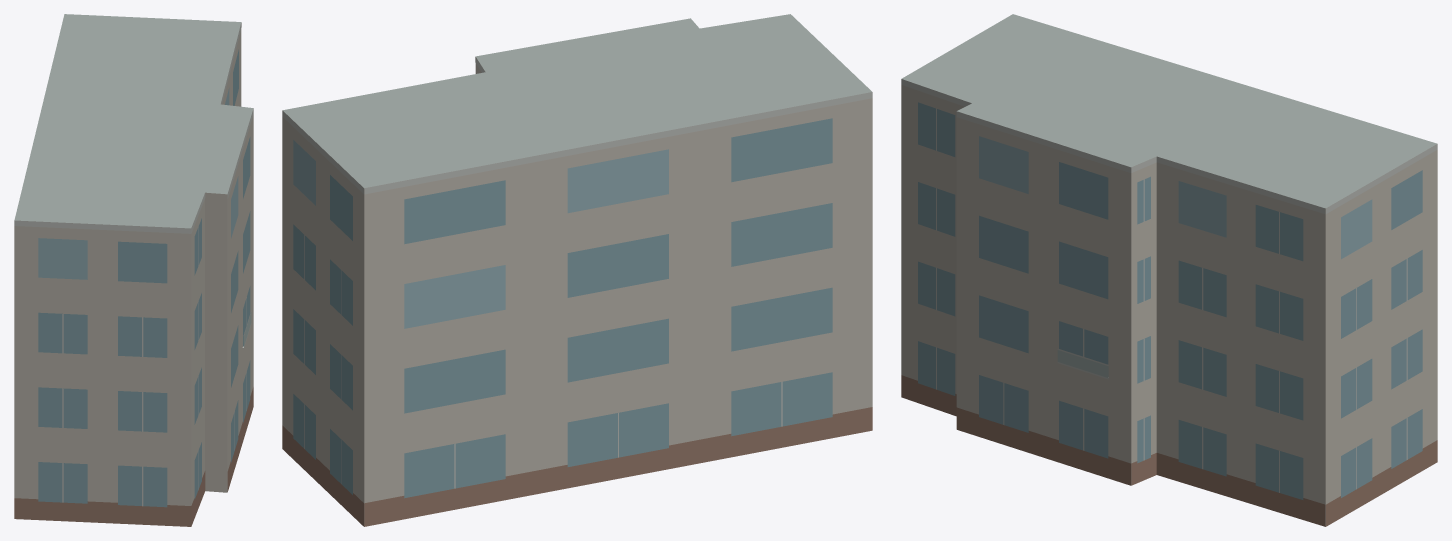
File: survey-upis-32993896.glb
3 views of the same model, side by side, from view 1: azimuth 30°, elevation 25°; view 2: azimuth 150°, elevation 25°; view 3: azimuth 270°, elevation 25° (orthographic). The views are drawn at different scales.
Visible parts, largest first — view 1: survey-upis-32993896.tmp; view 2: survey-upis-32993896.tmp; view 3: survey-upis-32993896.tmp.
Part boxes in pixels (box(x1,y1,x2,y2)): survey-upis-32993896.tmp: box(14, 14, 253, 526); survey-upis-32993896.tmp: box(282, 14, 872, 526); survey-upis-32993896.tmp: box(901, 14, 1437, 526).
Bounding box in the file's own units: 17.3 × 13.2 × 20.16.
